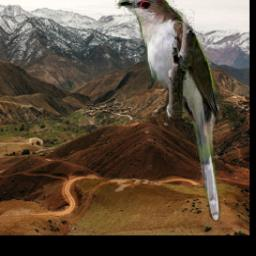Cuckoo: (116, 0, 222, 223)
